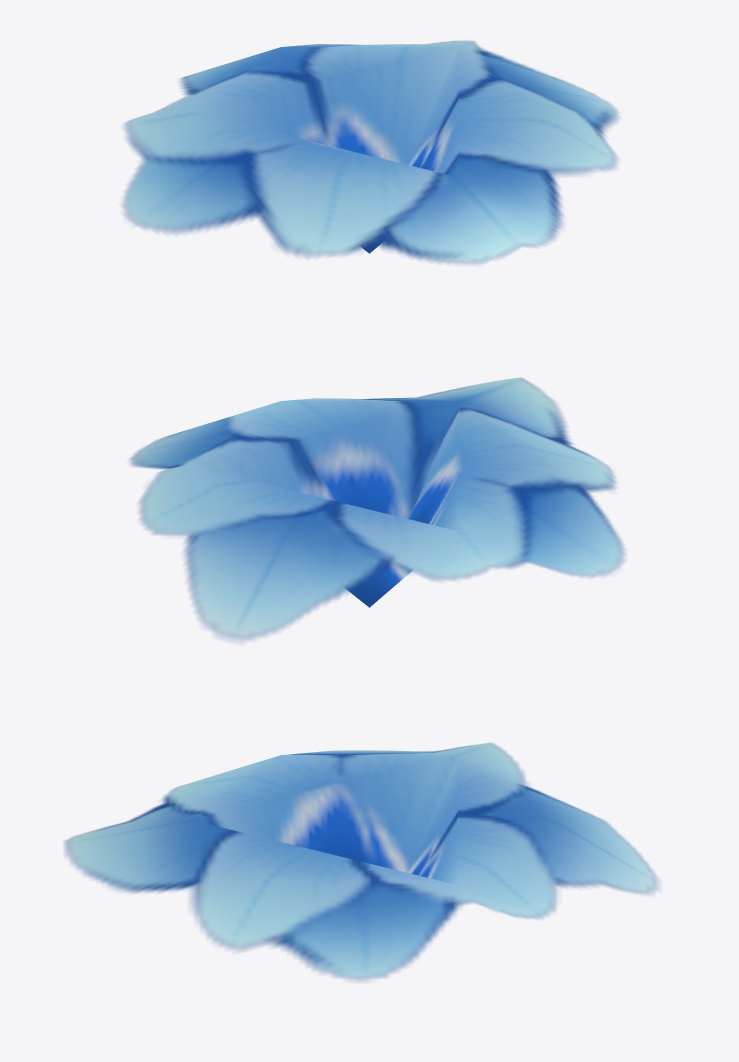
The model's file is flower2.glb.
3 renders of one model, top to bottom at view 1: azimuth 30°, elevation 25°; view 2: azimuth 150°, elevation 25°; view 3: azimuth 270°, elevation 25°, orthographic.
Visible parts, largest first — view 1: flower2; view 2: flower2; view 3: flower2.
Part boxes in pixels (<box>): flower2: <box>121,40,619,264</box>; flower2: <box>128,377,625,642</box>; flower2: <box>64,743,659,981</box>.
Size of the model in its own units: 0.3192 by 0.0701 by 0.3192.
1 material, 1 textured.
